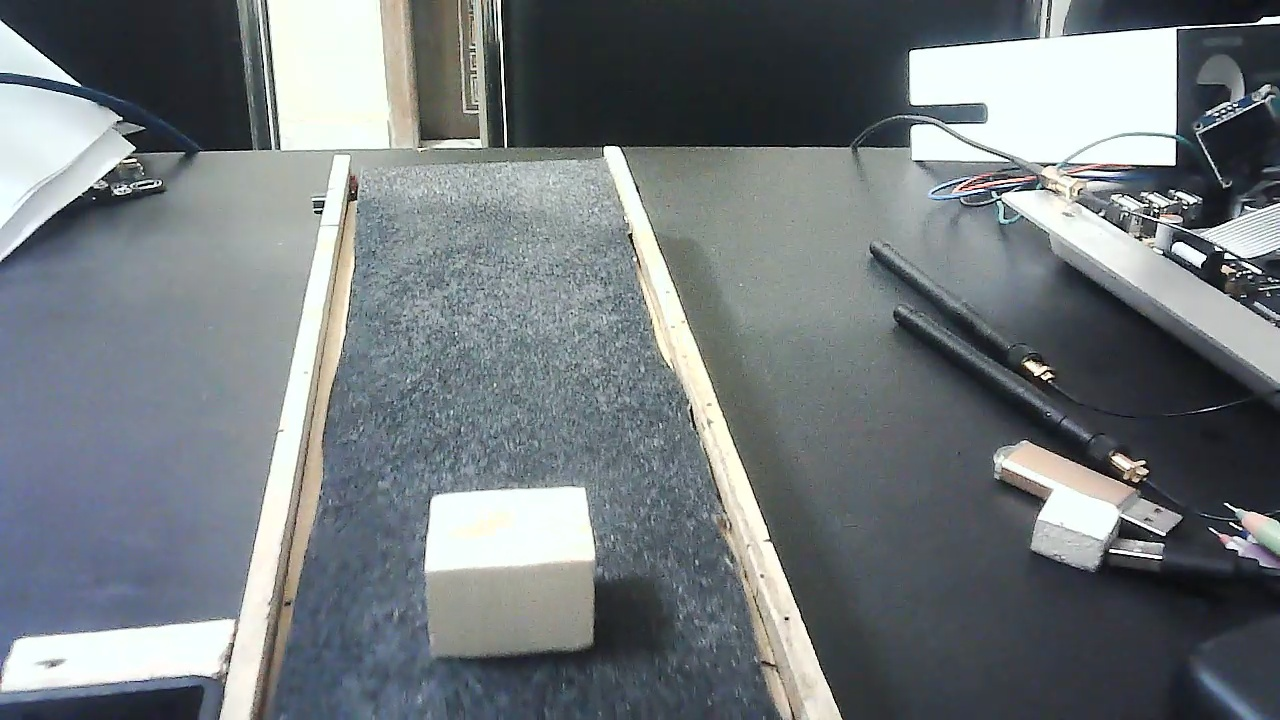Medium: (424, 483, 598, 657)
